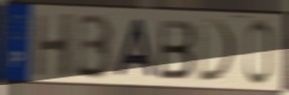0: (243, 17, 274, 88)
A: (112, 17, 159, 81)
B: (73, 12, 115, 82), (157, 17, 198, 81)
D: (197, 17, 239, 84)
H: (33, 11, 75, 80)
